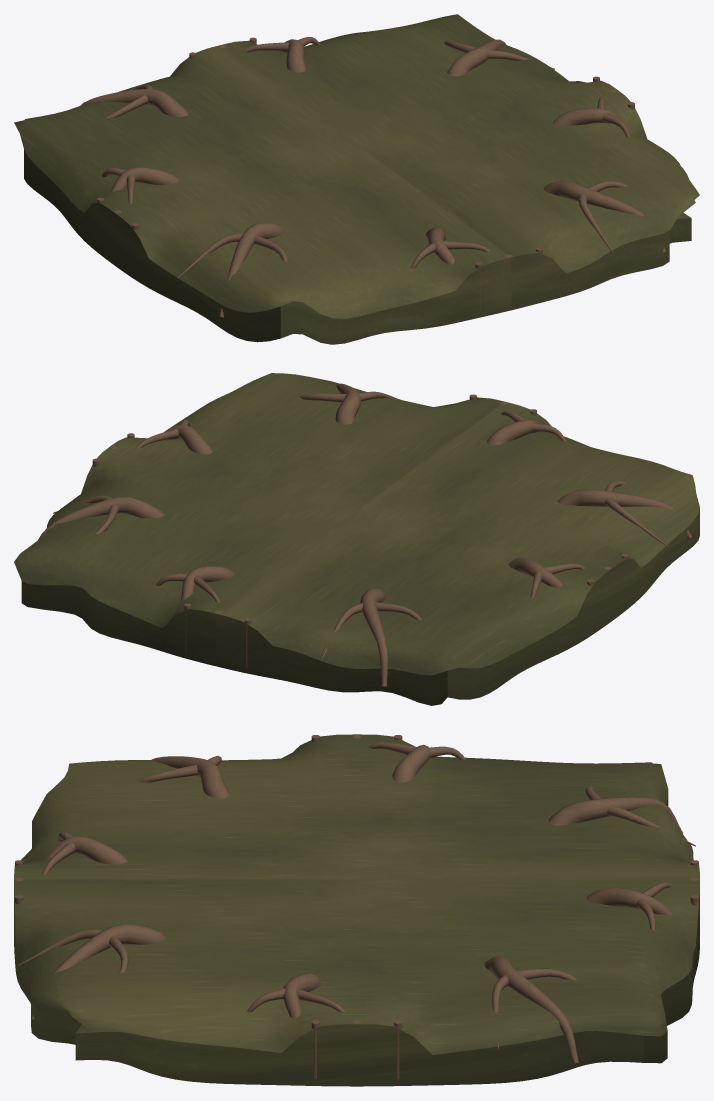
Rendered from bellroot-fen-floodward-marches-living-levee-rootbank-44871d65__32906.glb.
3 views of the same model, one above another, from view 1: azimuth 30°, elevation 25°; view 2: azimuth 150°, elevation 25°; view 3: azimuth 270°, elevation 25° (orthographic). The views are drawn at different scales.
Parts seen in each view (by area): view 1: living-levee-rootbank_0, living-levee-rootbank_1; view 2: living-levee-rootbank_0, living-levee-rootbank_1; view 3: living-levee-rootbank_0, living-levee-rootbank_1.
Part boxes in pixels (x1,y1,x2,y2): living-levee-rootbank_0: (14, 14, 699, 344); living-levee-rootbank_1: (80, 37, 665, 317); living-levee-rootbank_0: (14, 373, 699, 705); living-levee-rootbank_1: (38, 383, 691, 686); living-levee-rootbank_0: (14, 734, 699, 1086); living-levee-rootbank_1: (15, 735, 698, 1079).
Bounding box in the file's own units: 4 × 0.5056 × 4.
Materials: 2 (2 with a texture image).
